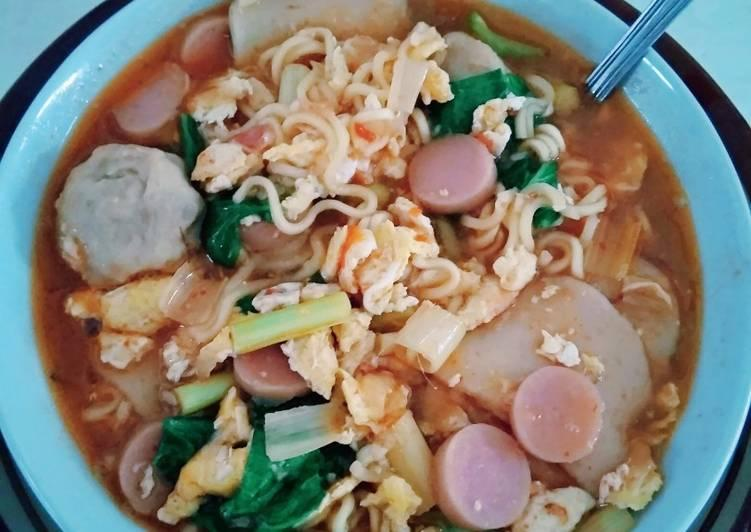seblak: (30, 1, 705, 532)
